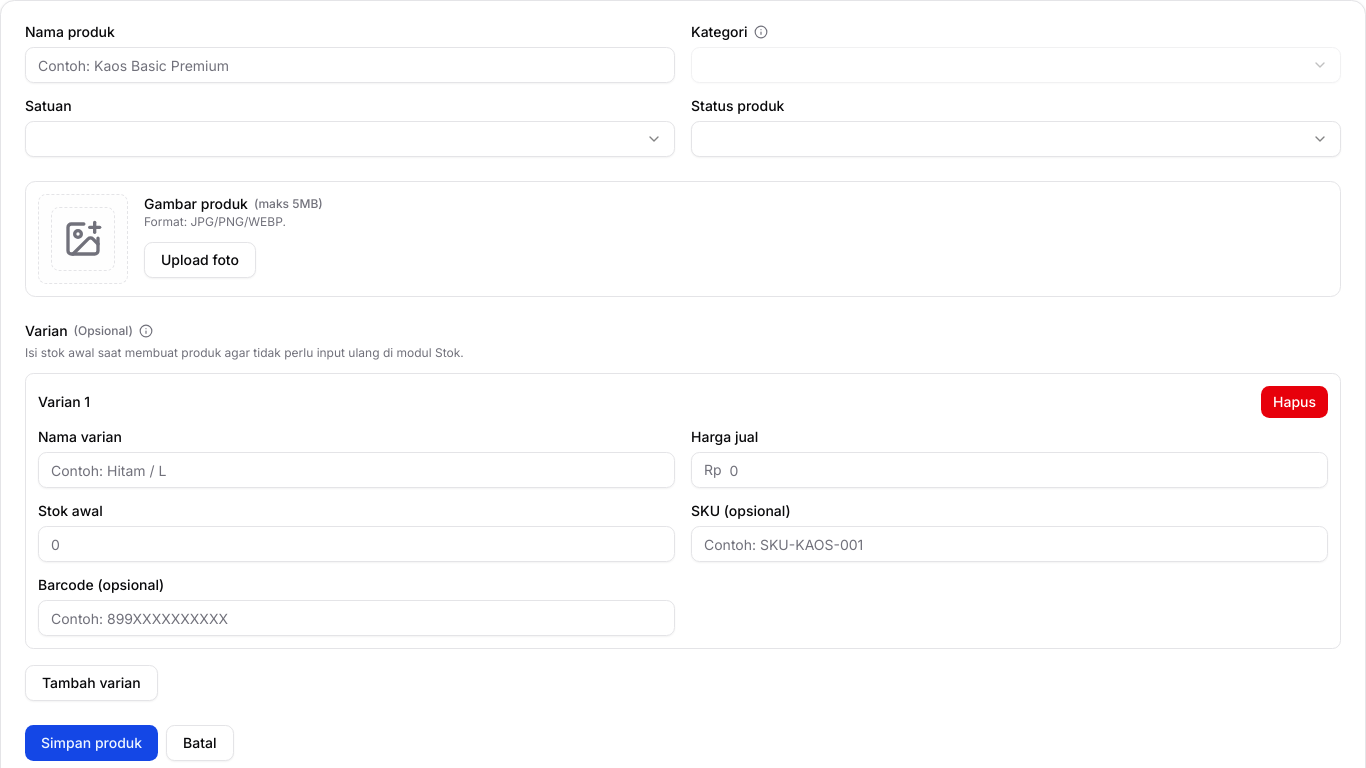
Test: ProductForm › keeps at least one variant row when user deletes the only row
The width and height of the screenshot is (1366, 768).
Check: the number of fields with placeholder "Contoh: Hitam / L" is 1, box [38, 452, 675, 488]
Click the button "Hapus". click: (1294, 402)
box: [1261, 386, 1328, 418]
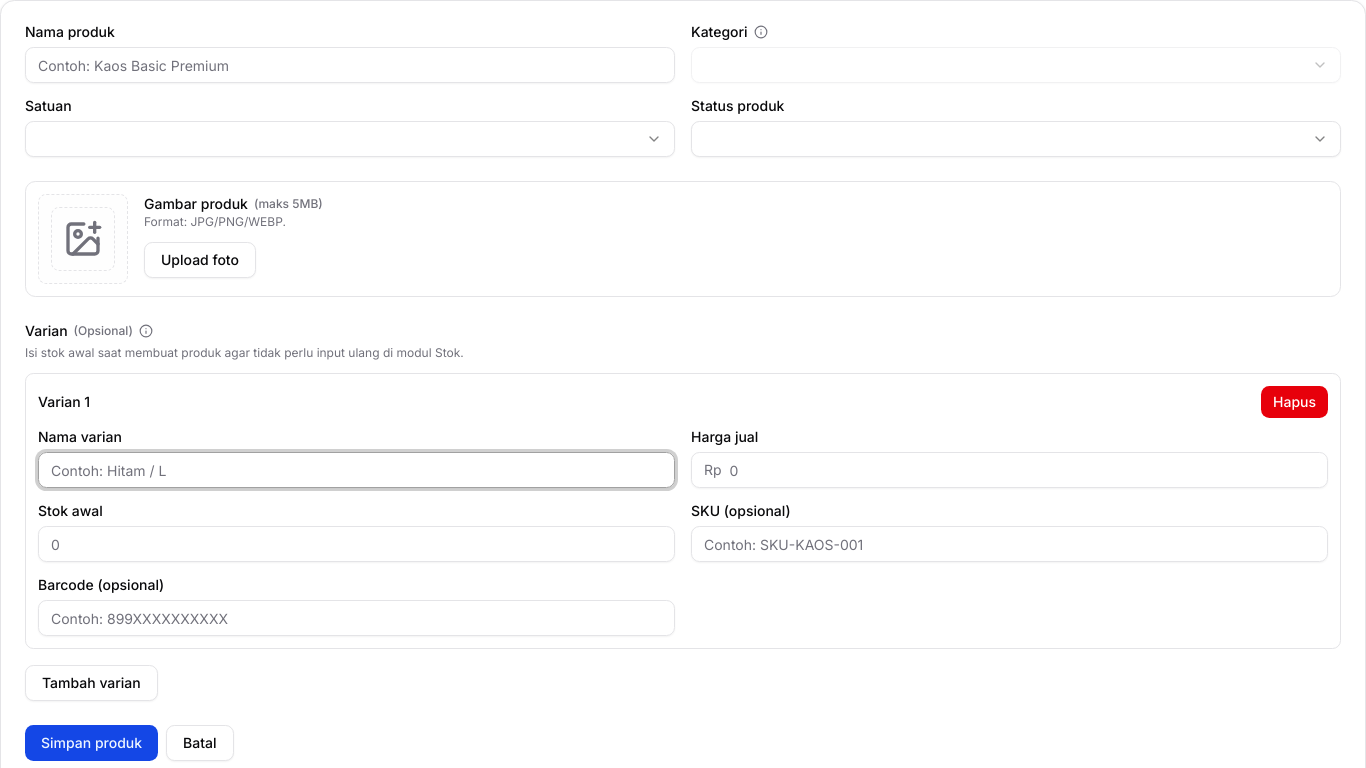
Check: the number of fields with placeholder "Contoh: Hitam / L" is 1, box [38, 452, 675, 488]
